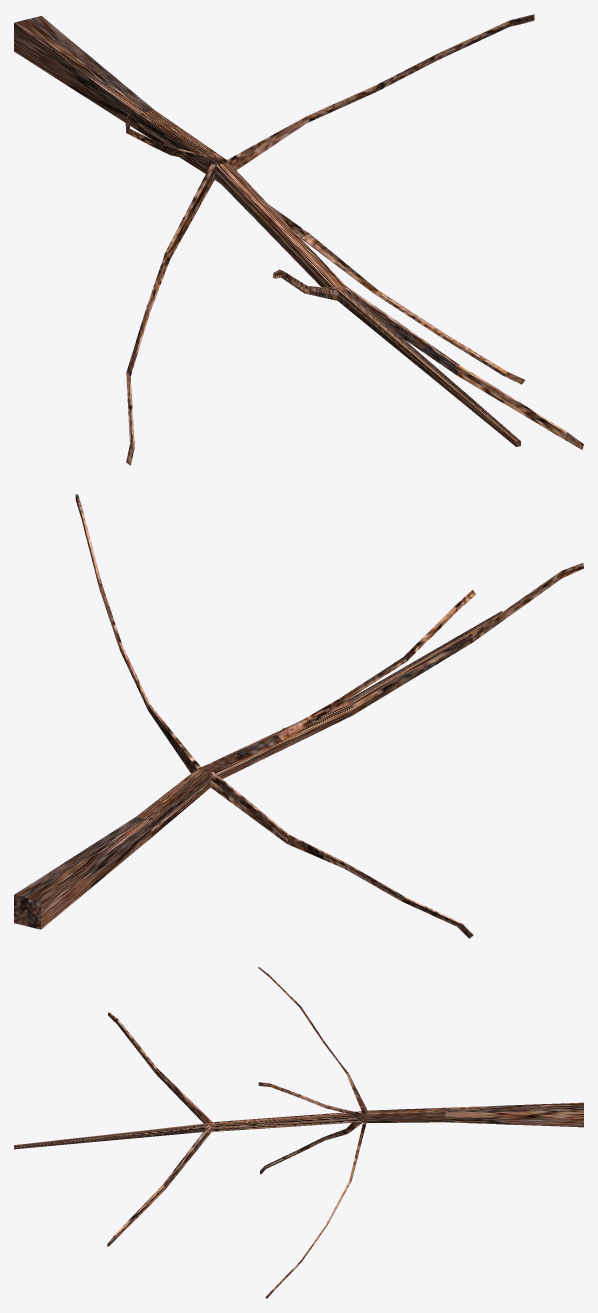
Rendered from tree-sampling-pine-2.glb.
The picture shows the model from 3 angles, top to bottom: view 1: azimuth 30°, elevation 25°; view 2: azimuth 150°, elevation 25°; view 3: azimuth 270°, elevation 25°; orthographic projection. The views are drawn at different scales.
Visible parts, largest first — view 1: Cube; view 2: Cube; view 3: Cube.
Part boxes in pixels (x1,y1,x2,y2): Cube: (14,14,583,465); Cube: (14,494,583,938); Cube: (14,967,583,1298).
Bounding box in the file's own units: 3.97 × 3.48 × 8.23.
1 material, 1 textured.
